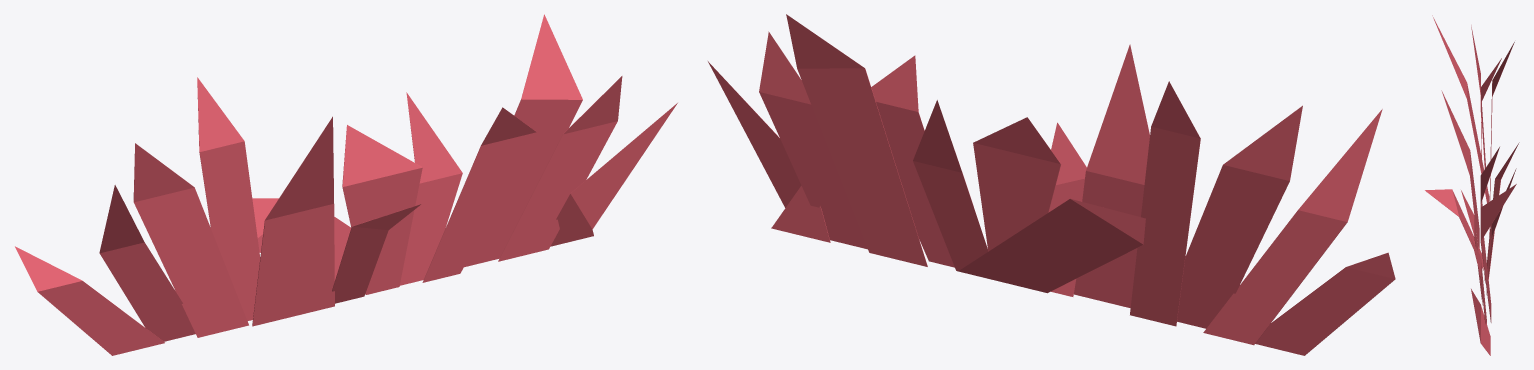
Rendered from decoration-grass-long.fbx.
3 renders of one model, left to right at view 1: azimuth 30°, elevation 25°; view 2: azimuth 150°, elevation 25°; view 3: azimuth 270°, elevation 25°, orthographic. The views are drawn at different scales.
Parts seen in each view (by area): view 1: decoration-grass-long; view 2: decoration-grass-long; view 3: decoration-grass-long.
Boxes of the visible parts, <box> form: decoration-grass-long: <box>15,14,677,355</box>; decoration-grass-long: <box>708,14,1395,355</box>; decoration-grass-long: <box>1425,15,1519,355</box>.
Bounding box in the file's own units: 2.02 × 0.7192 × 0.3492.
